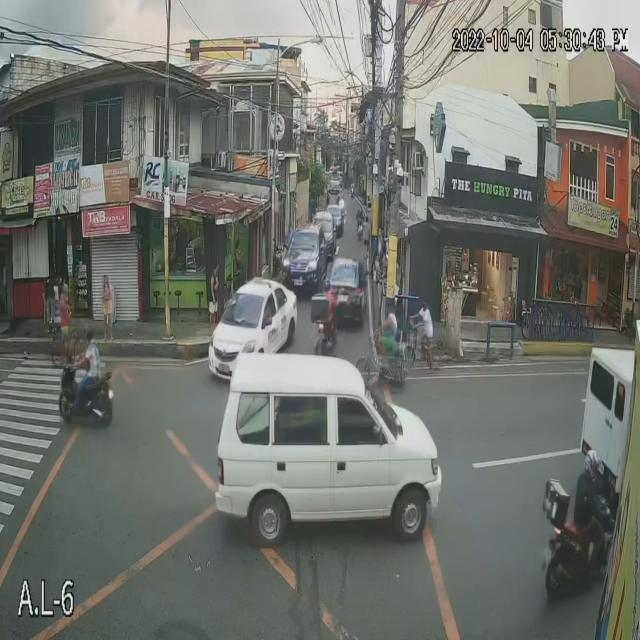full: (584, 447, 602, 486)
